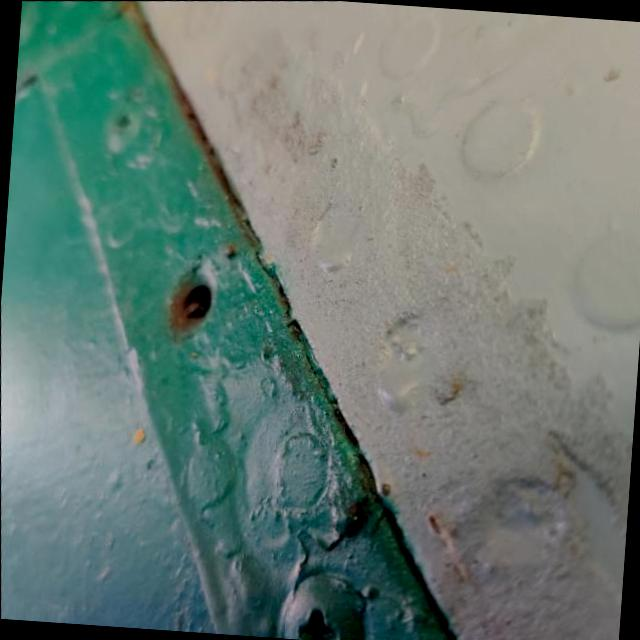Missing Fastener: (155, 250, 223, 348)
